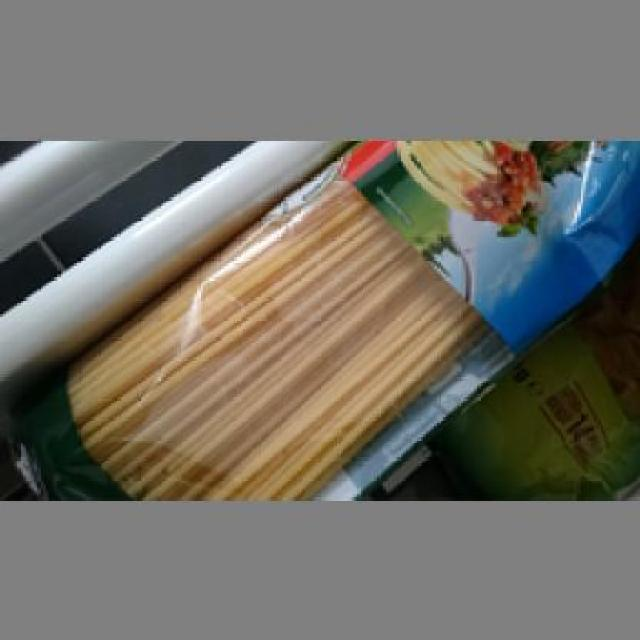Pasta: (8, 139, 634, 492)
